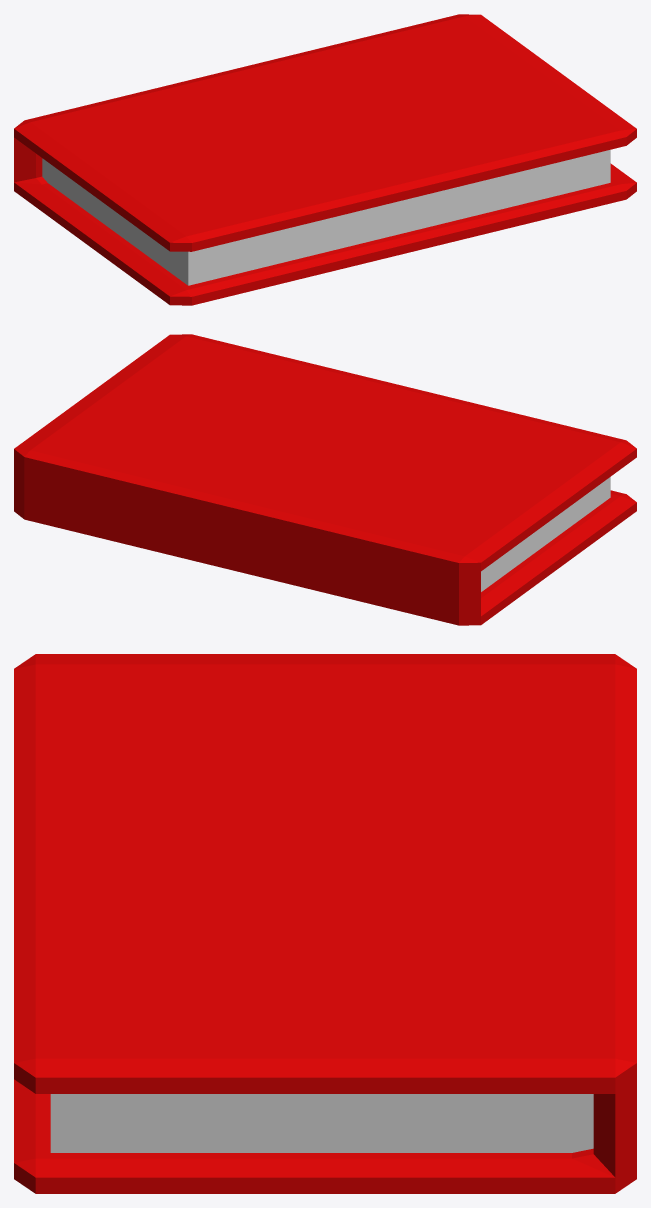
File: book.fbx
The picture shows the model from 3 angles, top to bottom: view 1: azimuth 30°, elevation 25°; view 2: azimuth 150°, elevation 25°; view 3: azimuth 270°, elevation 25°; orthographic projection. The views are drawn at different scales.
Parts seen in each view (by area): view 1: Cube; view 2: Cube; view 3: Cube.
Part boxes in pixels (bbox=[...]): Cube: bbox=[14, 14, 636, 305]; Cube: bbox=[14, 334, 636, 625]; Cube: bbox=[14, 654, 636, 1193].
Bounding box in the file's own units: 4.8 × 0.6597 × 2.98.
